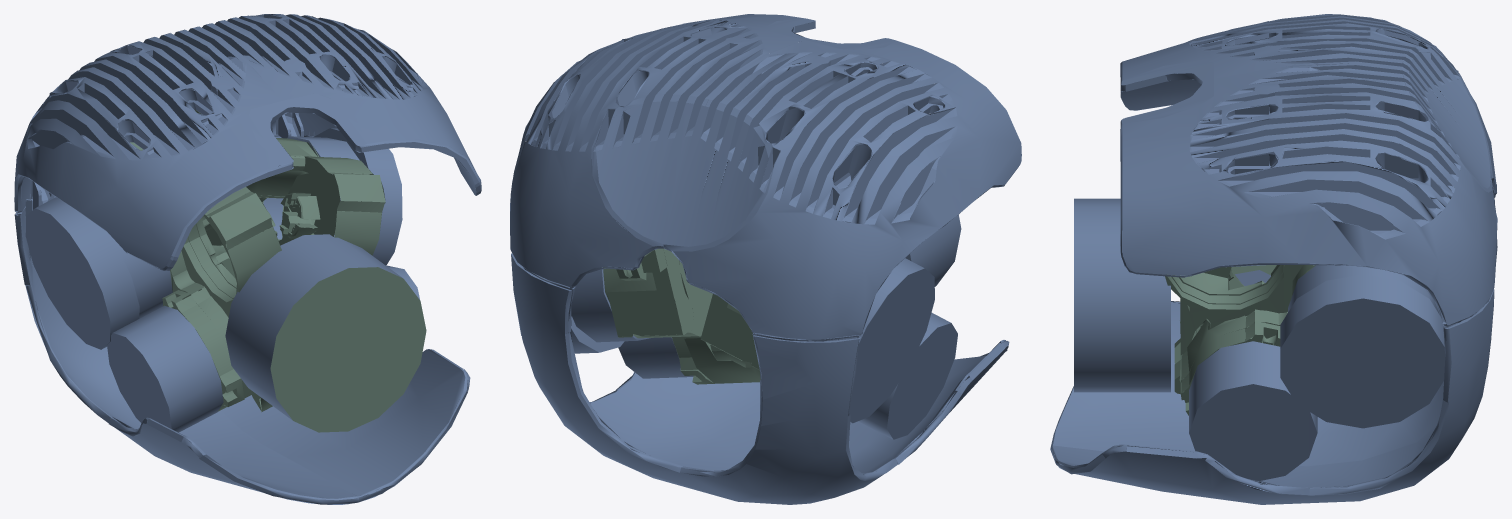
The model's file is icub_chest.dae.
3 renders of one model, left to right at view 1: azimuth 30°, elevation 25°; view 2: azimuth 150°, elevation 25°; view 3: azimuth 270°, elevation 25°, orthographic. The views are drawn at different scales.
Visible parts, largest first — view 1: torso_mesh, chest_cylinder_mesh; view 2: torso_mesh, chest_cylinder_mesh; view 3: torso_mesh, chest_cylinder_mesh.
Boxes of the visible parts, x1,y1,x2,y2 form: torso_mesh: [14, 14, 481, 504]; chest_cylinder_mesh: [225, 234, 426, 432]; torso_mesh: [510, 14, 1021, 504]; chest_cylinder_mesh: [905, 214, 961, 286]; torso_mesh: [1050, 14, 1497, 504]; chest_cylinder_mesh: [1074, 198, 1170, 392].
Size of the model in its own units: 0.19 by 0.1868 by 0.1847.
